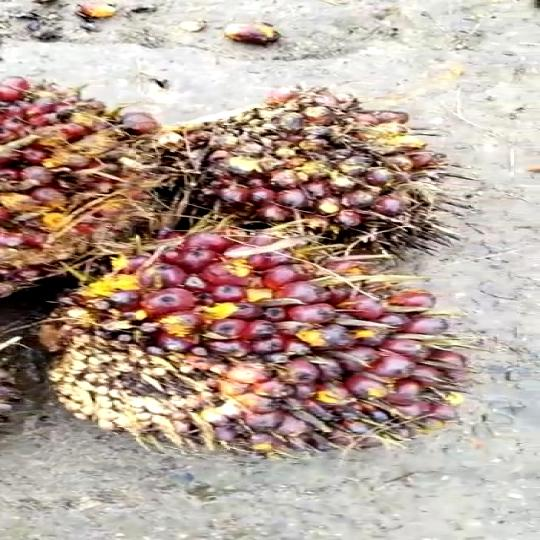masak: (59, 224, 486, 465), (154, 88, 466, 255)
